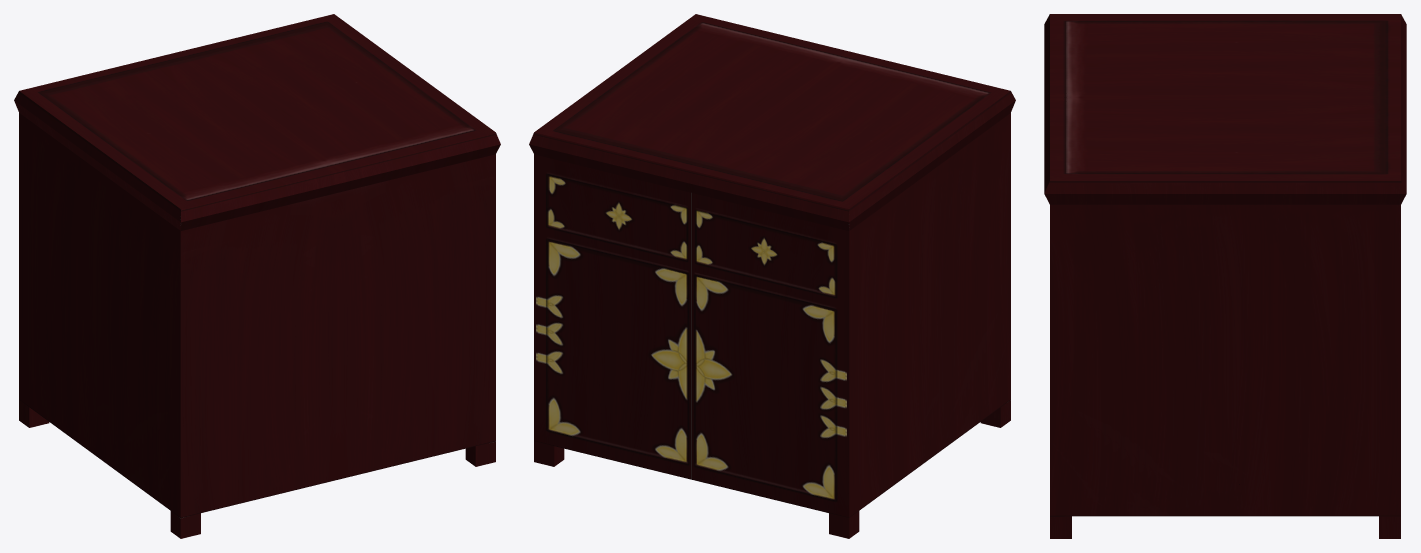
Rendered from NNJ0810017.fbx.
3 views of the same model, side by side, from view 1: azimuth 30°, elevation 25°; view 2: azimuth 150°, elevation 25°; view 3: azimuth 270°, elevation 25° (orthographic). The views are drawn at different scales.
Visible parts, largest first — view 1: smNNJ0810017; view 2: smNNJ0810017; view 3: smNNJ0810017.
Boxes of the visible parts, x1=… form: smNNJ0810017: x1=14, y1=14, x2=500, y2=538; smNNJ0810017: x1=529, y1=14, x2=1015, y2=538; smNNJ0810017: x1=1044, y1=14, x2=1406, y2=538.
Bounding box in the file's own units: 110 × 108 × 99.16.
Materials: 1 (1 with a texture image).
